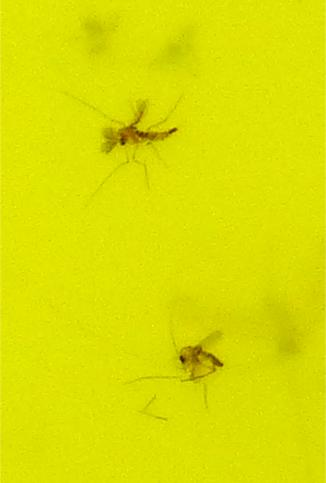Nematocera: (100, 100, 179, 155), (175, 331, 226, 383)
